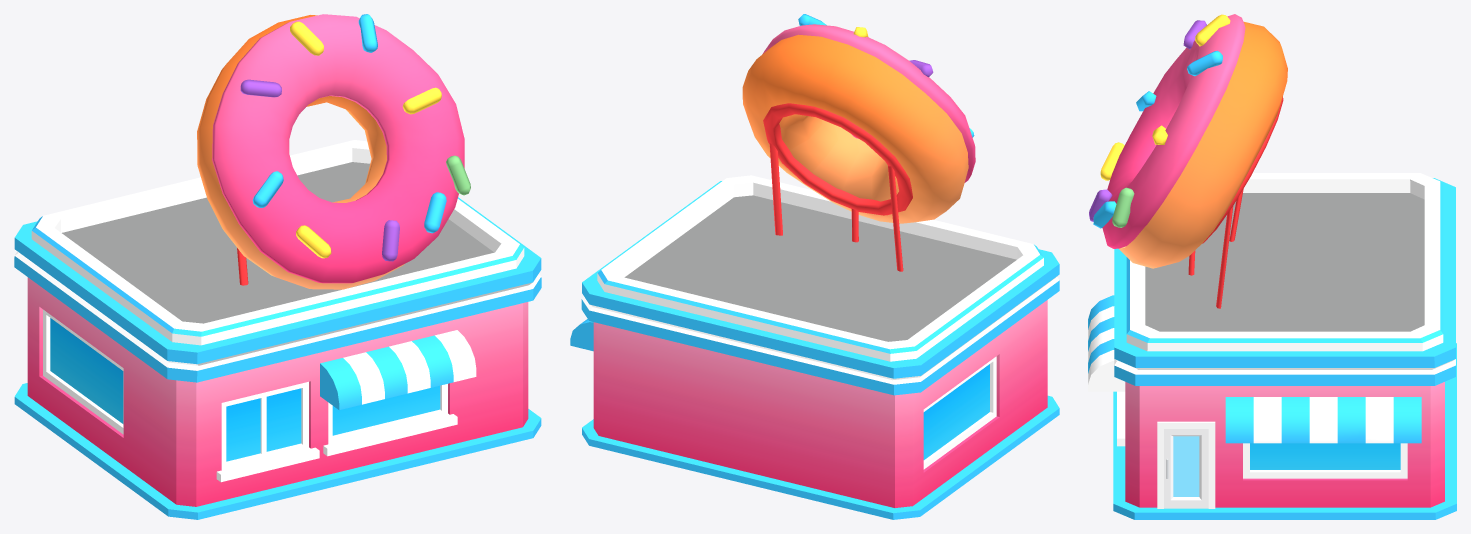
File: city2-building-snack-07.glb
The picture shows the model from 3 angles, left to right: view 1: azimuth 30°, elevation 25°; view 2: azimuth 150°, elevation 25°; view 3: azimuth 270°, elevation 25°; orthographic projection. The views are drawn at different scales.
Visible parts, largest first — view 1: Building_Snack_07; view 2: Building_Snack_07; view 3: Building_Snack_07.
Part boxes in pixels (left/top/right/bottom): Building_Snack_07: left=14, top=14, right=541, bottom=519; Building_Snack_07: left=570, top=14, right=1059, bottom=519; Building_Snack_07: left=1088, top=14, right=1456, bottom=519.
Bounding box in the file's own units: 10.86 × 11.02 × 9.
1 material, 1 textured.
